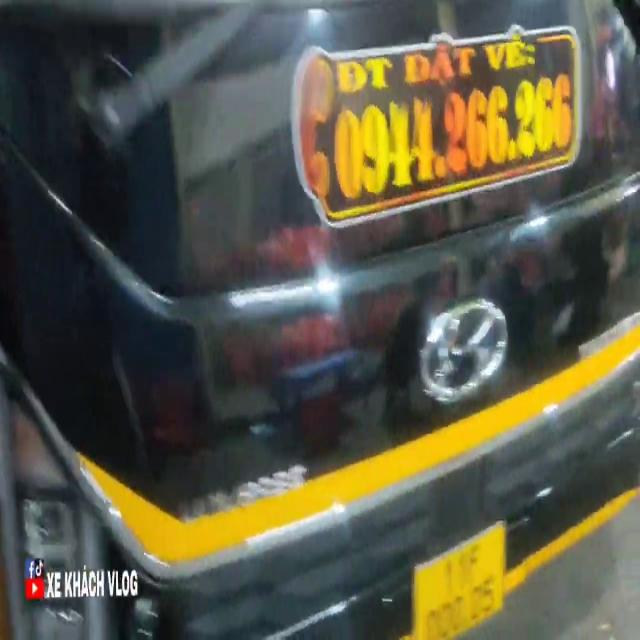bien_vang: (408, 542, 512, 632)
